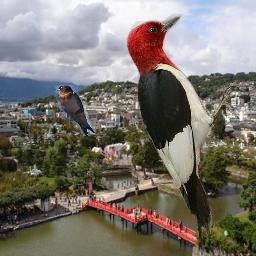Swallow: (55, 85, 95, 136)
Woodpecker: (124, 12, 240, 241)
